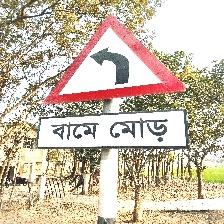Left-Turn: (37, 16, 190, 140)
